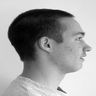ear: (34, 32, 58, 58)
